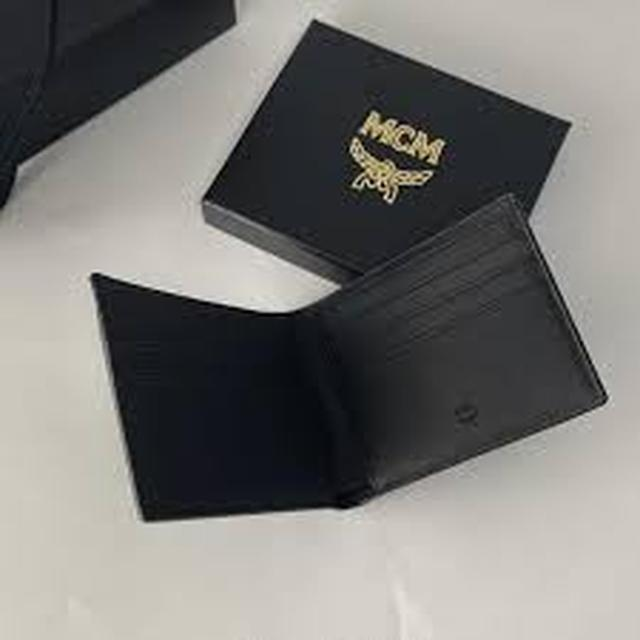wallet: (86, 233, 619, 538)
